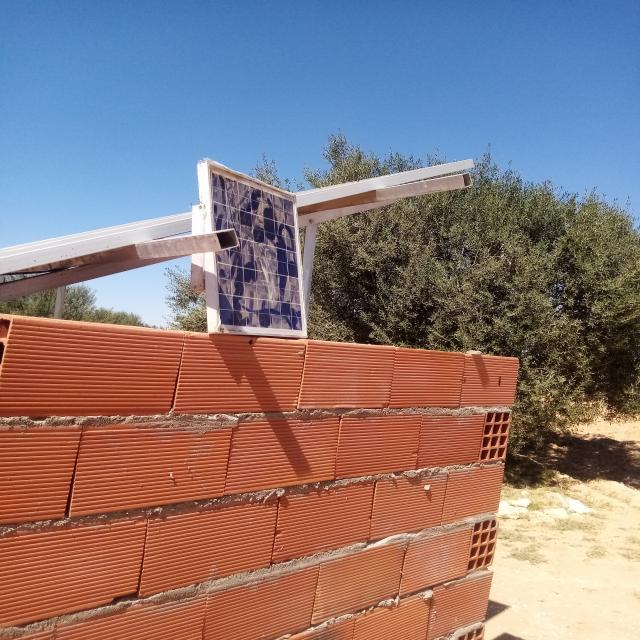faulty: (209, 162, 307, 337)
